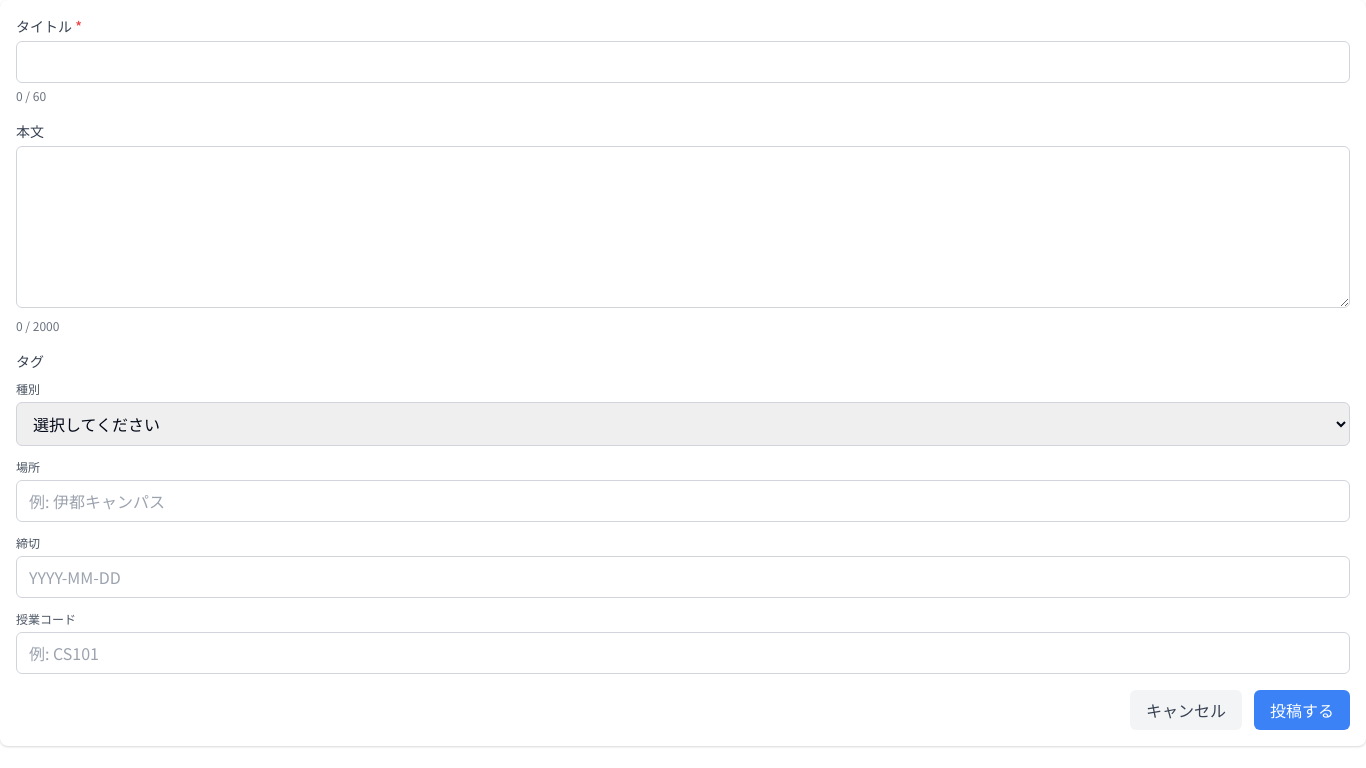
Test: ThreadForm › displays character counter for body
In the text box labelled "本文": (683, 227) [16,146,1350,308], type "Test body content"
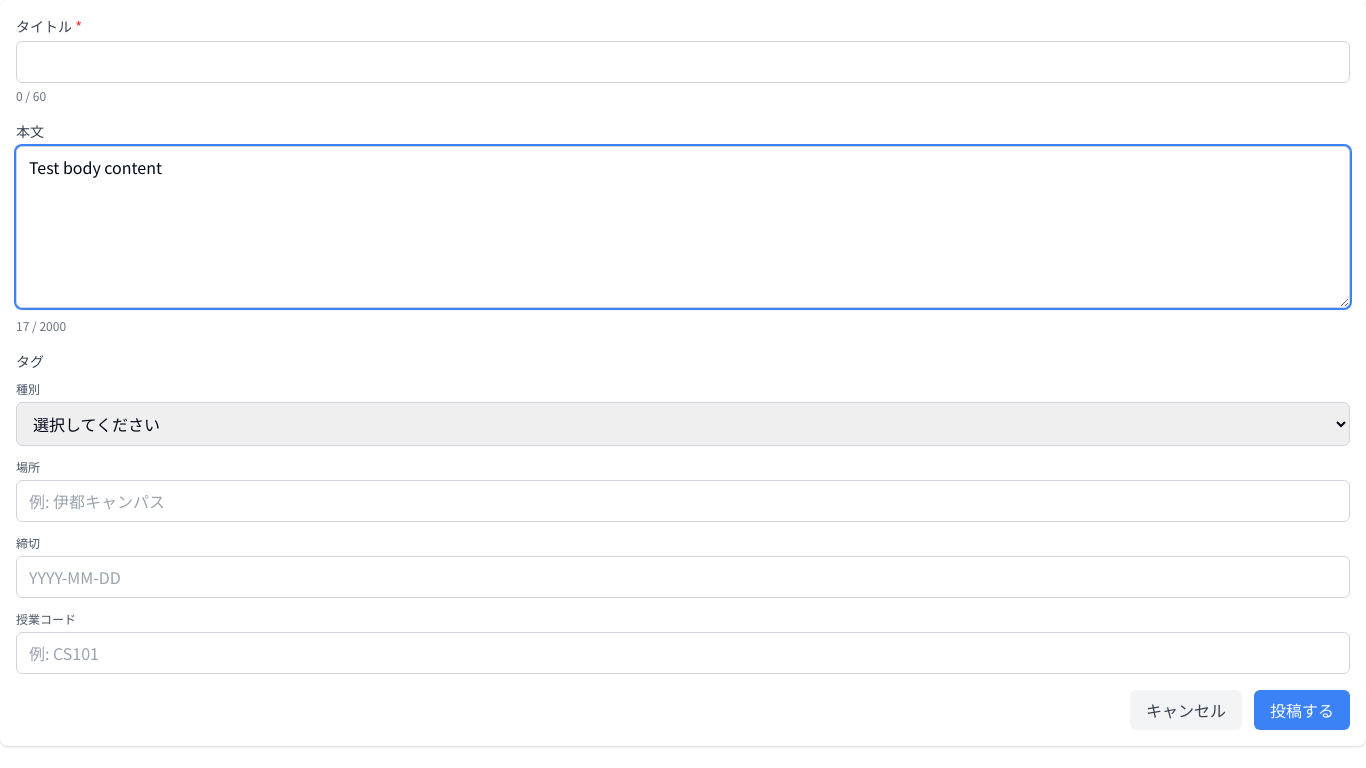
Now the text "17 / 2000" is shown, box [16,317,66,335]
